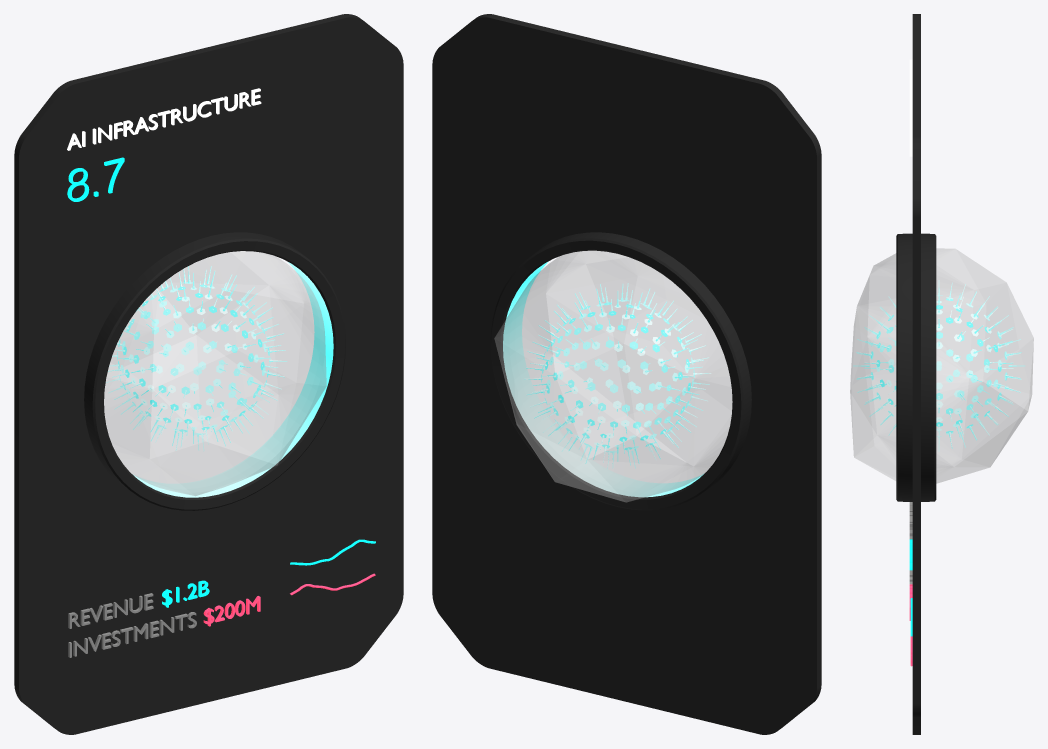
The picture shows the model from 3 angles, left to right: view 1: azimuth 30°, elevation 25°; view 2: azimuth 150°, elevation 25°; view 3: azimuth 270°, elevation 25°; orthographic projection. The views are drawn at different scales.
Visible parts, largest first — view 1: Base, Glass, Corner, sphere, Text, Text.004, Text.002, Text.001, Text.005; view 2: Base, Glass, Corner, sphere; view 3: Glass, Corner, Base, sphere, Text.
Part boxes in pixels (x1,y1,x2,y2): Base: (14,14,403,734); Glass: (104,251,326,495); Corner: (84,232,345,510); sphere: (105,266,287,451); Text: (67,88,261,150); Text.004: (68,612,196,657); Text.002: (68,593,153,628); Text.001: (67,157,124,201); Text.005: (203,596,260,626); Base: (432,14,821,734); Glass: (494,251,732,502); Corner: (490,232,751,510); sphere: (524,283,711,469); Glass: (850,248,1033,483); Corner: (896,233,936,501); Base: (912,14,920,734); sphere: (853,280,1024,451); Text: (909,59,912,156).
Size of the model in its own units: 1.47 by 2.38 by 0.666.
